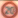20 km speed: (1, 1, 18, 17)
